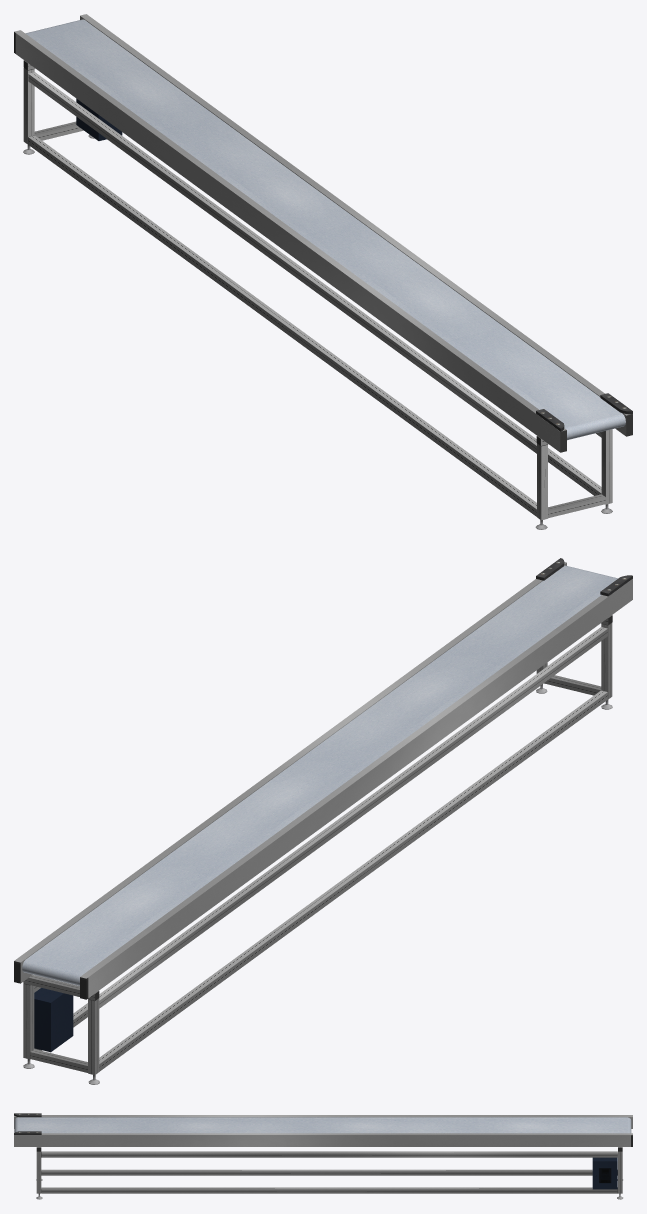
The picture shows the model from 3 angles, top to bottom: view 1: azimuth 30°, elevation 25°; view 2: azimuth 150°, elevation 25°; view 3: azimuth 270°, elevation 25°; orthographic projection. The views are drawn at different scales.
Visible parts, largest first — view 1: polySurface758; view 2: polySurface758; view 3: polySurface758.
Part boxes in pixels (x1,y1,x2,y2): polySurface758: (14, 14, 632, 529); polySurface758: (14, 558, 632, 1084); polySurface758: (14, 1113, 632, 1199).
Size of the model in its own units: 49.45 by 72.87 by 622.
